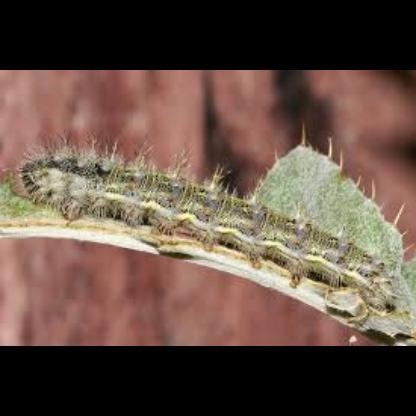oruga: (15, 131, 411, 329)
